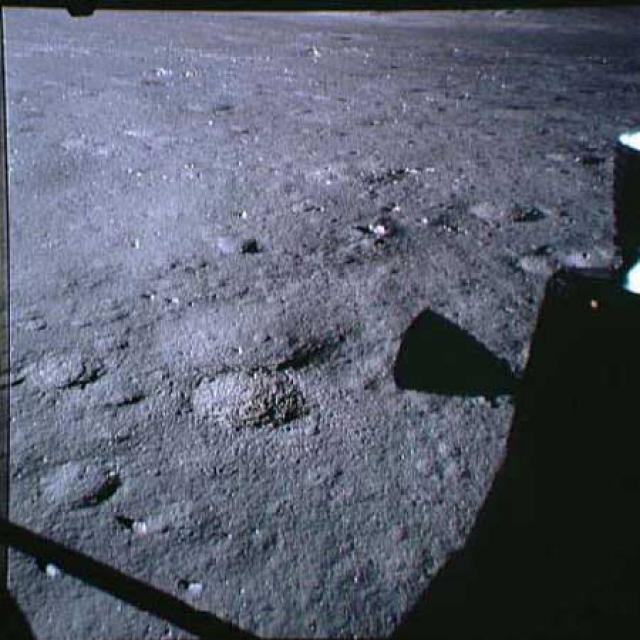artifact: (588, 121, 638, 328)
crater: (178, 362, 317, 438), (17, 450, 108, 525), (447, 184, 566, 236), (317, 144, 429, 194), (18, 344, 116, 398)
